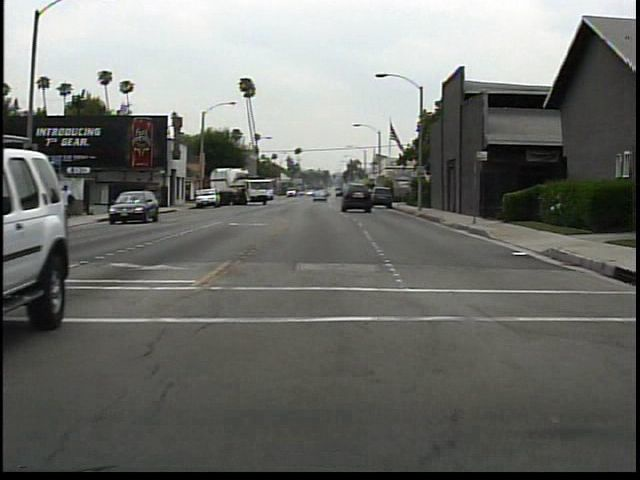person: (55, 181, 77, 225)
